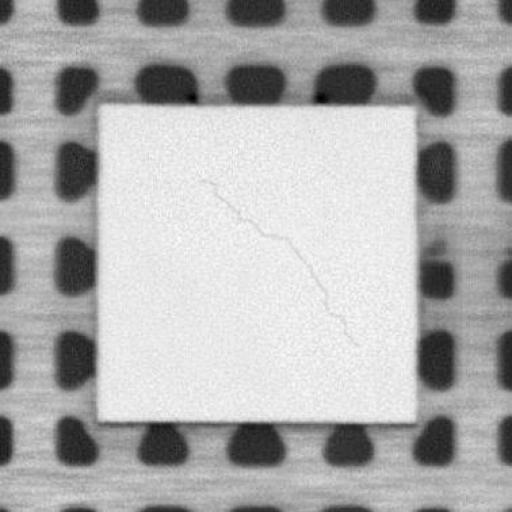DIE_CRACK: (199, 174, 358, 346)
